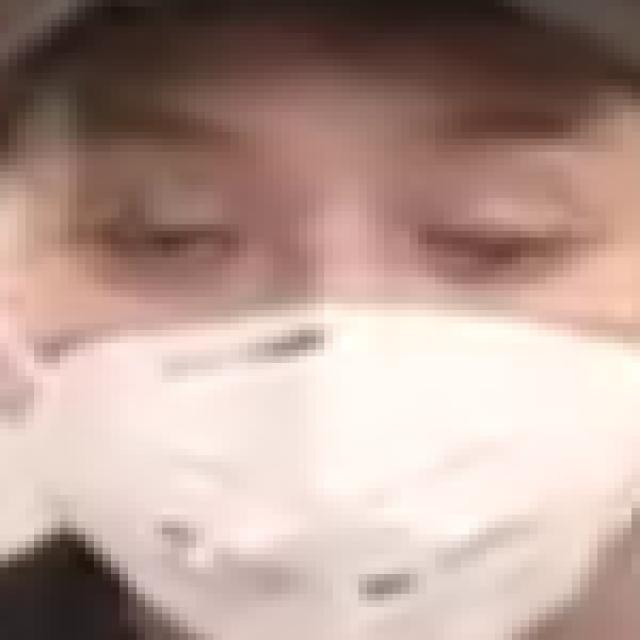mask: (0, 105, 623, 640)
